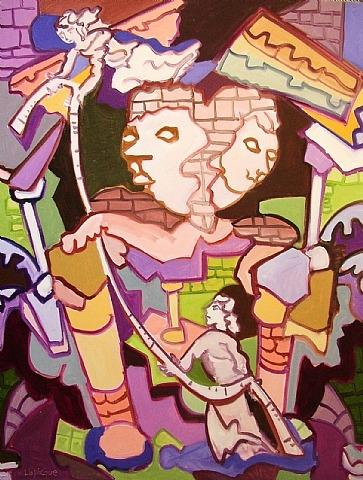person: (75, 95, 210, 252), (169, 286, 273, 458), (55, 7, 198, 93), (209, 91, 284, 247)
